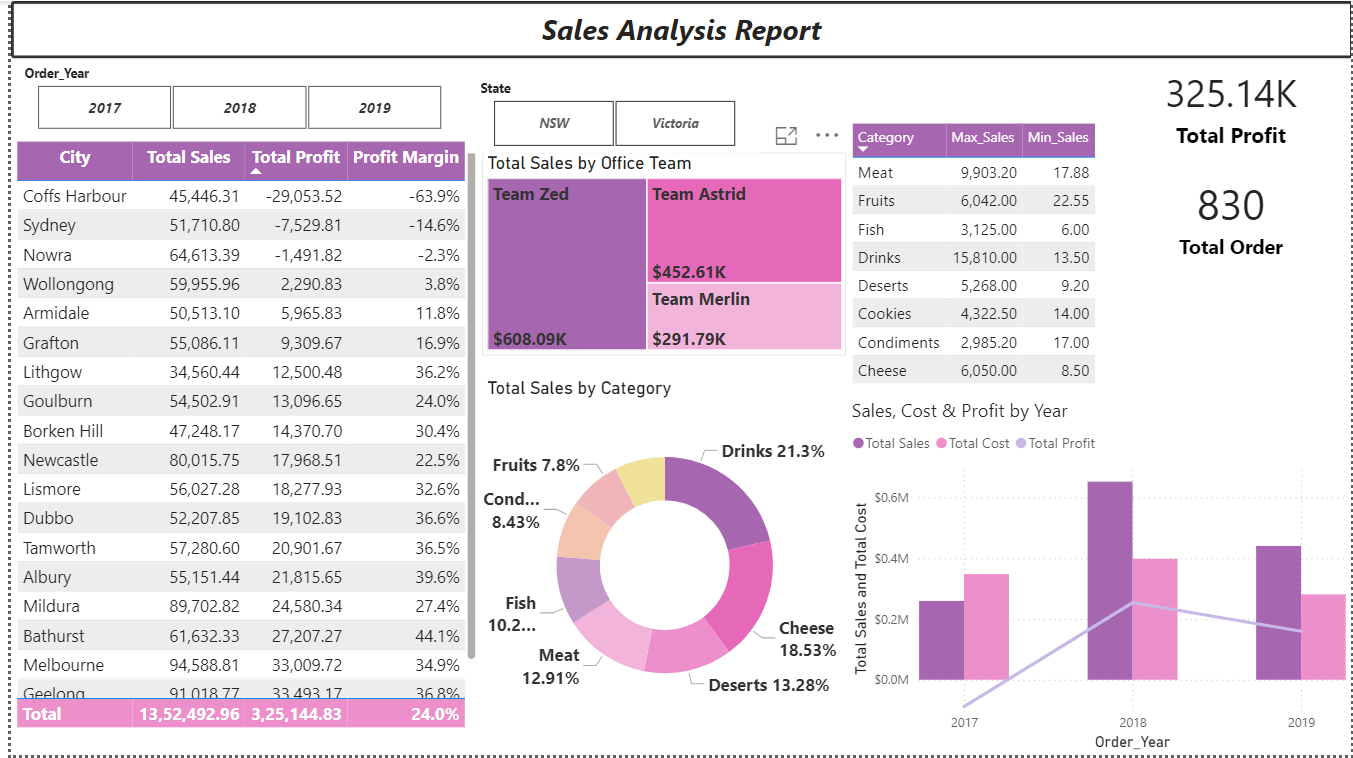

The page's visual inventory and layout, read from the dashboard file:
{"tool":"powerbi","page":{"name":"Page 1","canvas":[1280,720],"ordinal":0},"visuals":[{"type":"textbox","box":[0,0,1281.3,54.8],"z":0},{"type":"tableEx","fields":{"Values":["Orders.CustomerCity","Sum(Orders.Sales)","Sum(Orders.Profit)","Orders.Profit Margin"]},"box":[0,128.6,449.2,569.8],"z":1000},{"type":"slicer","fields":{"Values":["Orders.Order_Year"]},"box":[0,55.6,434.9,73],"z":2000},{"type":"treemap","fields":{"Group":["Employees.Office Team"],"Values":["Orders.Total Sales"]},"box":[450,145,348.3,193.3],"z":3000},{"type":"donutChart","fields":{"Category":["Orders.Category"],"Y":["Orders.Total Sales"]},"box":[450,360,348.3,338.3],"z":4000},{"type":"tableEx","fields":{"Values":["Orders.Category","Orders.Max_Sales","Orders.Min_Sales"]},"box":[798.3,111.7,250,266.7],"z":5000},{"type":"lineClusteredColumnComboChart","title":"Sales, Cost & Profit by Year","fields":{"Category":["Orders.Order_Year"],"Y":["Orders.Total Sales","Orders.Total Cost"],"Y2":["Orders.Total Profit"]},"box":[798.3,378.3,481.7,341.7],"z":6000},{"type":"slicer","fields":{"Values":["Orders.State"]},"box":[435,70,280,75],"z":7000},{"type":"card","fields":{"Values":["Orders.Total Profit"]},"box":[1048.2,55.7,232.2,89.1],"z":8000},{"type":"card","fields":{"Values":["Orders.Total Order"]},"box":[1048.2,144.7,232.2,120.9],"z":9000}]}

Visuals, with their boxes in screenshot pixels (x1, y1, x2, y2), scaled from the page's 1280x720 canvas onto the 1353x758 screenshot:
textbox: crop(0, 0, 1352, 58)
tableEx - Orders.CustomerCity x Sum(Orders.Sales): crop(0, 135, 475, 735)
slicer - Orders.Order_Year: crop(0, 59, 460, 135)
treemap - Employees.Office Team x Orders.Total Sales: crop(476, 153, 844, 356)
donutChart - Orders.Category x Orders.Total Sales: crop(476, 379, 844, 735)
tableEx - Orders.Category x Orders.Max_Sales: crop(844, 118, 1108, 398)
"Sales, Cost & Profit by Year" lineClusteredColumnComboChart: crop(844, 398, 1352, 757)
slicer - Orders.State: crop(460, 74, 756, 153)
card - Orders.Total Profit: crop(1108, 59, 1352, 152)
card - Orders.Total Order: crop(1108, 152, 1352, 280)
